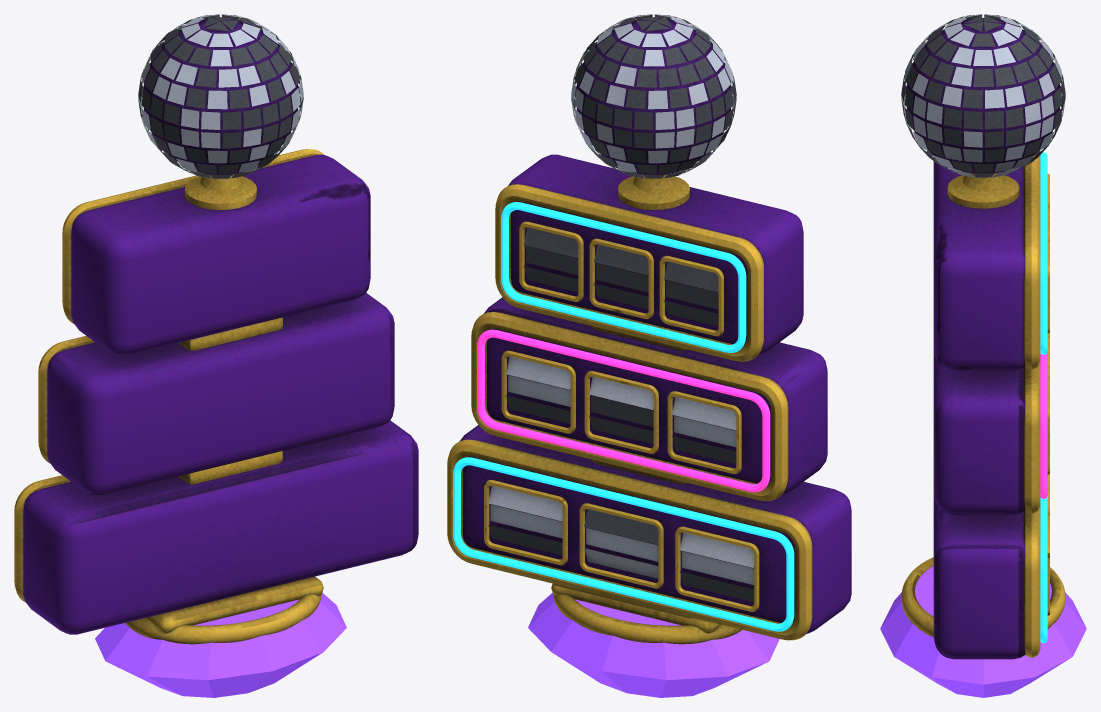
3 views of the same model, side by side, from view 1: azimuth 30°, elevation 25°; view 2: azimuth 150°, elevation 25°; view 3: azimuth 270°, elevation 25° (orthographic).
Visible parts, largest first — view 1: Royal_purple_lacquer, Square_mirror_chrome, Polished_champagne_gold, glow_Violet_crystal_pedestal; view 2: Royal_purple_lacquer, Polished_champagne_gold, Square_mirror_chrome, glow_Electric_blue_neon, glow_Violet_crystal_pedestal, glow_Hot_pink_neon; view 3: Royal_purple_lacquer, Square_mirror_chrome, Polished_champagne_gold, glow_Violet_crystal_pedestal, glow_Electric_blue_neon, glow_Hot_pink_neon.
Part boxes in pixels (x1,y1,x2,y2): Royal_purple_lacquer: (23, 18, 418, 634); Square_mirror_chrome: (138, 14, 303, 178); Polished_champagne_gold: (14, 149, 323, 644); glow_Violet_crystal_pedestal: (95, 593, 346, 697); Royal_purple_lacquer: (459, 18, 851, 633); Polished_champagne_gold: (447, 173, 812, 644); Square_mirror_chrome: (488, 14, 754, 602); glow_Electric_blue_neon: (453, 202, 794, 631); glow_Violet_crystal_pedestal: (528, 593, 779, 697); glow_Hot_pink_neon: (477, 329, 770, 492); Royal_purple_lacquer: (905, 18, 1061, 659); Square_mirror_chrome: (901, 14, 1065, 177); Polished_champagne_gold: (901, 155, 1065, 657); glow_Violet_crystal_pedestal: (880, 566, 1086, 697); glow_Electric_blue_neon: (1040, 152, 1047, 643); glow_Hot_pink_neon: (1040, 352, 1047, 499).
Bounding box in the file's own units: 1.51 × 2.59 × 0.7488.
6 materials, 3 textured.
